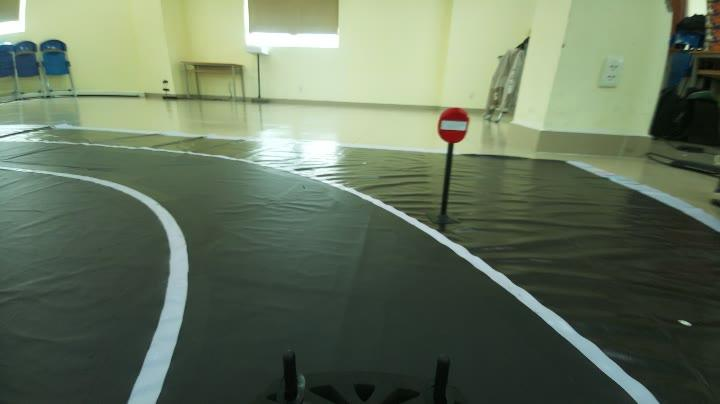no_entry: (432, 103, 474, 147)
